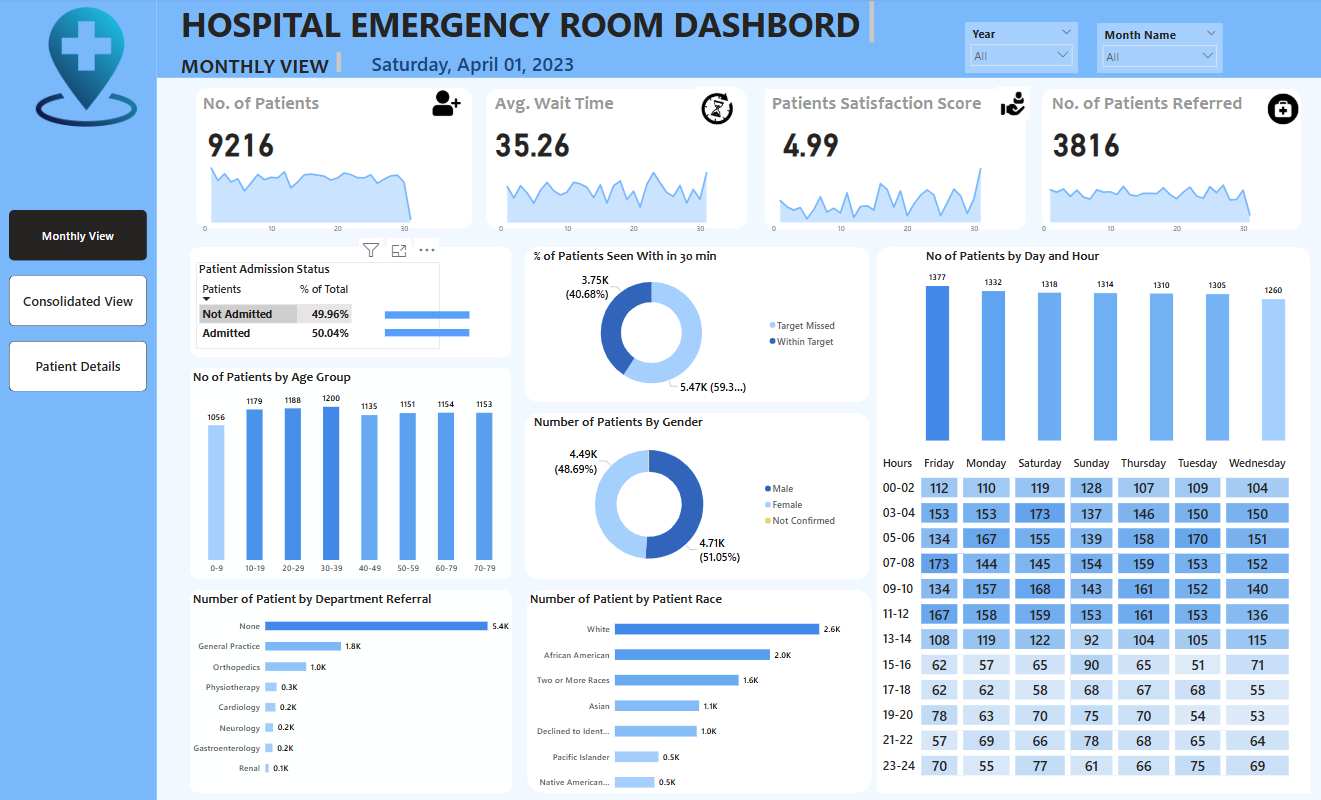

The dashboard page shown, as its layout file describes it:
{"tool":"powerbi","page":{"name":"Monthly View","canvas":[2300,1400],"ordinal":0},"visuals":[{"type":"shape","box":[0,0,273.4,1400],"z":0},{"type":"shape","box":[273.4,0,2026.9,139.3],"z":1000},{"type":"textbox","box":[310,0,1217.2,85.3],"z":2000},{"type":"textbox","box":[310,88.8,289.1,50.5],"z":3000},{"type":"shape","box":[341.7,156.7,481.7,245],"z":4000},{"type":"card","fields":{"Values":["Count(Hospital.Patient Id)"]},"box":[348.3,207.9,141.7,83.3],"z":5000},{"type":"slicer","fields":{"Values":["Hospital.Year"]},"box":[1680.3,41.8,196.8,88.8],"z":6000},{"type":"slicer","fields":{"Values":["Hospital.Month Name"]},"box":[1910.2,43.5,219.4,87.1],"z":7000},{"type":"textbox","box":[348.3,157.7,235,58.3],"z":8000},{"type":"areaChart","fields":{"Category":["Hospital.Patient Admission Date.Variation.Date Hierarchy.Day"],"Y":["CountNonNull(Hospital.Patient Id)"]},"box":[341.7,274.6,435,145],"z":9000},{"type":"card","fields":{"Values":["Min(Hospital.Patient Admission Date)"]},"box":[599,88.8,449.3,50.5],"z":10000},{"type":"shape","box":[1815,158.3,451.7,245],"z":11000},{"type":"card","fields":{"Values":["Hospital.Measure"]},"box":[1814.4,207.8,155,83.6],"z":12000},{"type":"textbox","box":[1826.6,158.1,419.7,57.5],"z":13000},{"type":"areaChart","fields":{"Category":["Hospital.Patient Admission Date.Variation.Date Hierarchy.Day"],"Y":["Hospital.no of patients referred"]},"box":[1802.2,274.8,435.3,144.5],"z":14000},{"type":"shape","box":[846.7,158.3,455,243.3],"z":15000},{"type":"card","fields":{"Values":["Avg(Hospital.Patient Waittime)"]},"box":[856.7,207.8,141,83.6],"z":16000},{"type":"textbox","box":[856.7,158.1,235.1,57.5],"z":17000},{"type":"areaChart","fields":{"Category":["Hospital.Patient Admission Date.Variation.Date Hierarchy.Day"],"Y":["Avg(Hospital.Patient Waittime)"]},"box":[856.7,274.6,435,145],"z":18000},{"type":"shape","box":[1331.7,158.3,455,245],"z":19000},{"type":"card","fields":{"Values":["Avg(Hospital.Patient Satisfaction Score)"]},"box":[1342.5,207.8,139.3,83.6],"z":20000},{"type":"textbox","box":[1332.1,158.5,393.5,57.5],"z":21000},{"type":"areaChart","fields":{"Category":["Hospital.Patient Admission Date.Variation.Date Hierarchy.Day"],"Y":["Avg(Hospital.Patient Satisfaction Score)"]},"box":[1332.1,274.8,437.1,144.5],"z":22000},{"type":"shape","box":[331.7,433.3,560,191.7],"z":23000},{"type":"tableEx","title":"Patient Admission Status","fields":{"Values":["Hospital.Admission Status flag","Hospital.Patient Id"]},"box":[341.7,460,425,151.7],"z":24000},{"type":"barChart","fields":{"Y":["CountNonNull(Hospital.Patient Id)"],"Category":["Hospital.Admission Status flag"]},"box":[665,516.7,201.7,95],"z":25000},{"type":"shape","box":[331.7,645,560,368.3],"z":26000},{"type":"clusteredColumnChart","title":" No of Patients by Age Group","fields":{"Category":["Hospital.AgeGroup"],"Y":["CountNonNull(Hospital.no of patients)"]},"box":[331.7,645,560,368.3],"z":27000},{"type":"shape","box":[330.8,1030.8,560.7,353.5],"z":28000},{"type":"clusteredBarChart","title":"Number of Patient by Department Referral","fields":{"Category":["Hospital.Department Referral"],"Y":["CountNonNull(Hospital.Patient Id)"]},"box":[330.8,1030.8,560.7,337.8],"z":29000},{"type":"shape","box":[915,433.3,600,270],"z":30000},{"type":"donutChart","title":"% of Patients Seen With in 30 min","fields":{"Category":["Hospital.waittime status"],"Y":["CountNonNull(Hospital.Patient Id)"]},"box":[925,433.3,543.3,270],"z":31000},{"type":"shape","box":[915,723.3,600,290],"z":32000},{"type":"donutChart","title":"Number of Patients By Gender","fields":{"Y":["CountNonNull(Hospital.Patient Id)"],"Category":["Hospital.Patient Gender"]},"box":[925,723.3,543.3,290],"z":33000},{"type":"shape","box":[917.7,1030.8,600.7,353.5],"z":34000},{"type":"clusteredBarChart","title":"Number of Patient by  Patient Race","fields":{"Y":["CountNonNull(Hospital.Patient Id)"],"Category":["Hospital.Patient Race"]},"box":[918.3,1031.7,560,368.3],"z":35000},{"type":"shape","box":[1527.1,433.6,754,950.7],"z":36000},{"type":"pivotTable","fields":{"Rows":["Hospital.Watting Interval"],"Columns":["Hospital.Day Name"],"Values":["CountNonNull(Hospital.no of patients)"]},"box":[1527.1,790.5,754,593.8],"z":37000},{"type":"columnChart","title":"No of Patients by Day and Hour","fields":{"Category":["Hospital.Day Name"],"Y":["CountNonNull(Hospital.Patient Id)"]},"box":[1607.2,433.6,639.1,343],"z":38000},{"type":"image","box":[745.3,151.5,64.4,62.7],"z":39000},{"type":"image","box":[1196.3,149.8,104.5,85.3],"z":40000},{"type":"image","box":[0,10.4,301.2,219.4],"z":41000},{"type":"image","box":[2202.7,156.7,62.7,73.1],"z":42000},{"type":"image","box":[1725.6,149.8,76.6,67.9],"z":43000},{"type":"pageNavigator","box":[15.7,369.2,240.3,318.7],"z":43001}]}

Visuals, with their boxes in screenshot pixels (x1, y1, x2, y2), scaled from the page's 2300x1400 canvas onto the 1321x800 screenshot:
shape: crop(0, 0, 157, 799)
shape: crop(157, 0, 1320, 80)
textbox: crop(178, 0, 877, 49)
textbox: crop(178, 51, 344, 80)
shape: crop(196, 90, 473, 230)
card - Count(Hospital.Patient Id): crop(200, 119, 281, 166)
slicer - Hospital.Year: crop(965, 24, 1078, 75)
slicer - Hospital.Month Name: crop(1097, 25, 1223, 75)
textbox: crop(200, 90, 335, 123)
areaChart - Hospital.Patient Admission Date.Variation.Date Hierarchy.Day x CountNonNull(Hospital.Patient Id): crop(196, 157, 446, 240)
card - Min(Hospital.Patient Admission Date): crop(344, 51, 602, 80)
shape: crop(1042, 90, 1302, 230)
card - Hospital.Measure: crop(1042, 119, 1131, 167)
textbox: crop(1049, 90, 1290, 123)
areaChart - Hospital.Patient Admission Date.Variation.Date Hierarchy.Day x Hospital.no of patients referred: crop(1035, 157, 1285, 240)
shape: crop(486, 90, 748, 229)
card - Avg(Hospital.Patient Waittime): crop(492, 119, 573, 167)
textbox: crop(492, 90, 627, 123)
areaChart - Hospital.Patient Admission Date.Variation.Date Hierarchy.Day x Avg(Hospital.Patient Waittime): crop(492, 157, 742, 240)
shape: crop(765, 90, 1026, 230)
card - Avg(Hospital.Patient Satisfaction Score): crop(771, 119, 851, 167)
textbox: crop(765, 91, 991, 123)
areaChart - Hospital.Patient Admission Date.Variation.Date Hierarchy.Day x Avg(Hospital.Patient Satisfaction Score): crop(765, 157, 1016, 240)
shape: crop(191, 248, 512, 357)
"Patient Admission Status" tableEx: crop(196, 263, 440, 350)
barChart - CountNonNull(Hospital.Patient Id) x Hospital.Admission Status flag: crop(382, 295, 498, 350)
shape: crop(191, 369, 512, 579)
" No of Patients by Age Group" clusteredColumnChart: crop(191, 369, 512, 579)
shape: crop(190, 589, 512, 791)
"Number of Patient by Department Referral" clusteredBarChart: crop(190, 589, 512, 782)
shape: crop(526, 248, 870, 402)
"% of Patients Seen With in 30 min" donutChart: crop(531, 248, 843, 402)
shape: crop(526, 413, 870, 579)
"Number of Patients By Gender" donutChart: crop(531, 413, 843, 579)
shape: crop(527, 589, 872, 791)
"Number of Patient by  Patient Race" clusteredBarChart: crop(527, 590, 849, 799)
shape: crop(877, 248, 1310, 791)
pivotTable - Hospital.Watting Interval x Hospital.Day Name: crop(877, 452, 1310, 791)
"No of Patients by Day and Hour" columnChart: crop(923, 248, 1290, 444)
image: crop(428, 87, 465, 122)
image: crop(687, 86, 747, 134)
image: crop(0, 6, 173, 131)
image: crop(1265, 90, 1301, 131)
image: crop(991, 86, 1035, 124)
pageNavigator: crop(9, 211, 147, 393)
